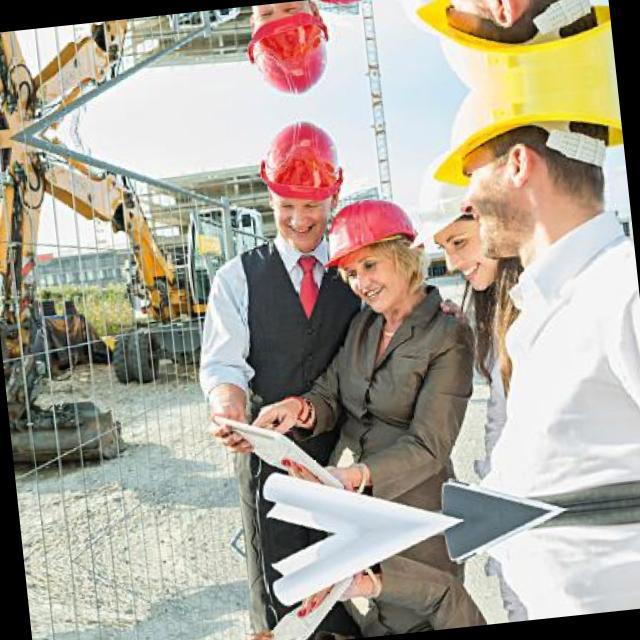helmet: (422, 74, 632, 268), (410, 0, 614, 94), (402, 144, 516, 296), (248, 115, 348, 250), (321, 194, 426, 317), (236, 0, 333, 102), (384, 0, 490, 40)
